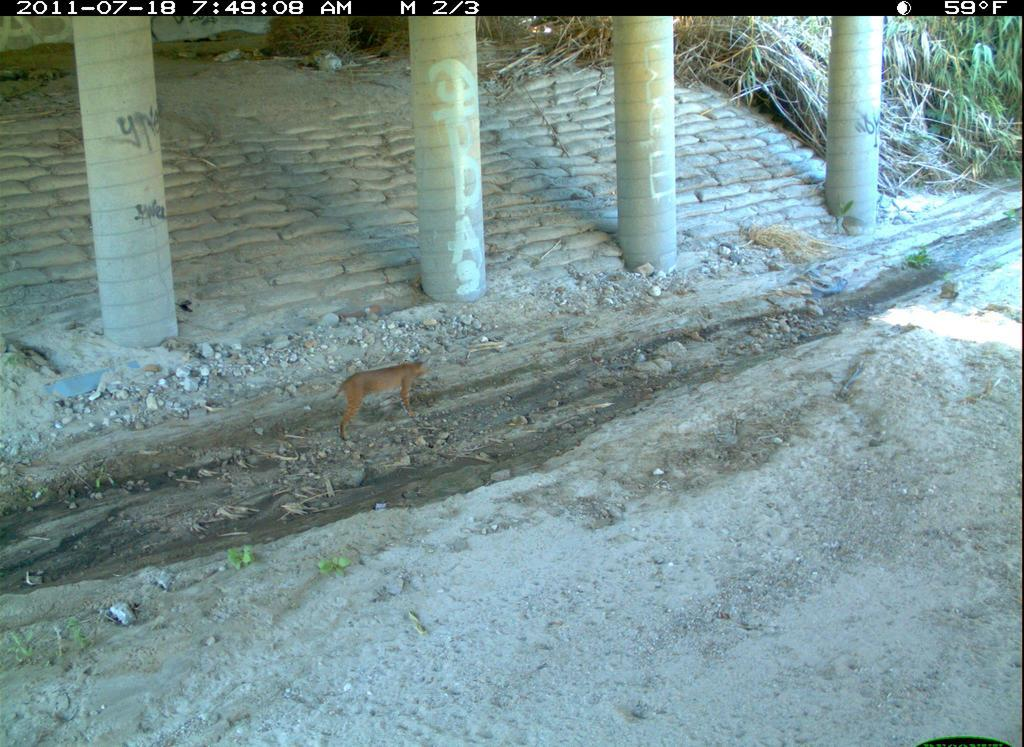bobcat: (654, 697, 873, 747)
